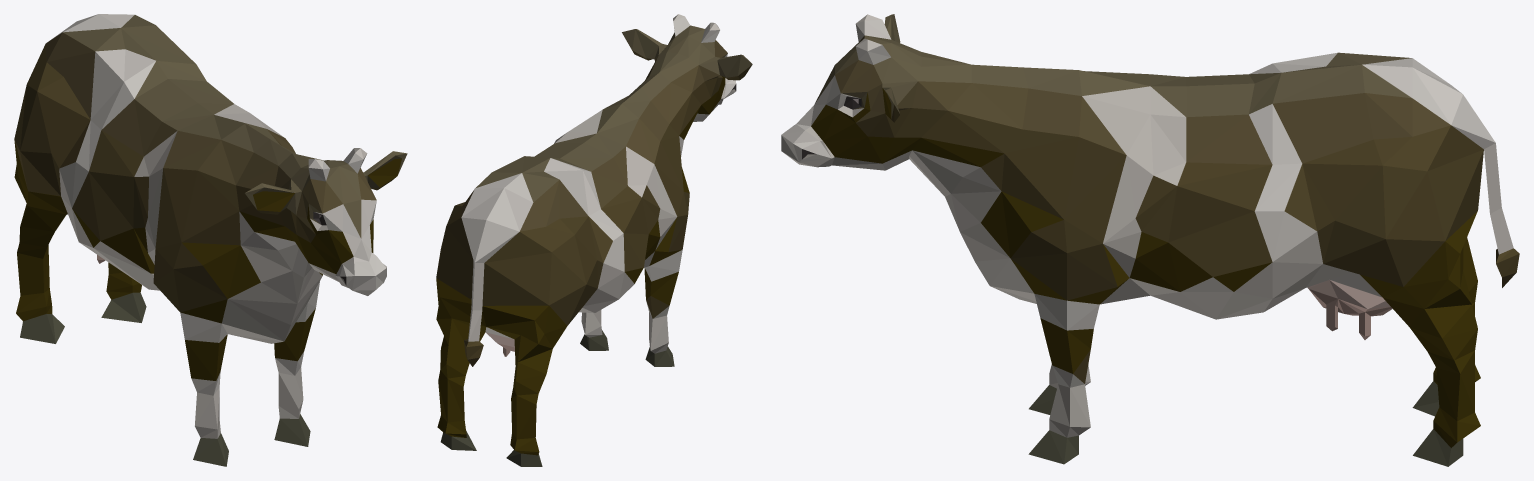
The model's file is cow.glb.
3 views of the same model, side by side, from view 1: azimuth 30°, elevation 25°; view 2: azimuth 150°, elevation 25°; view 3: azimuth 270°, elevation 25° (orthographic). The views are drawn at different scales.
Bounding box in the file's own units: 80 × 150 × 248.
Materials: 1 (1 with a texture image).
